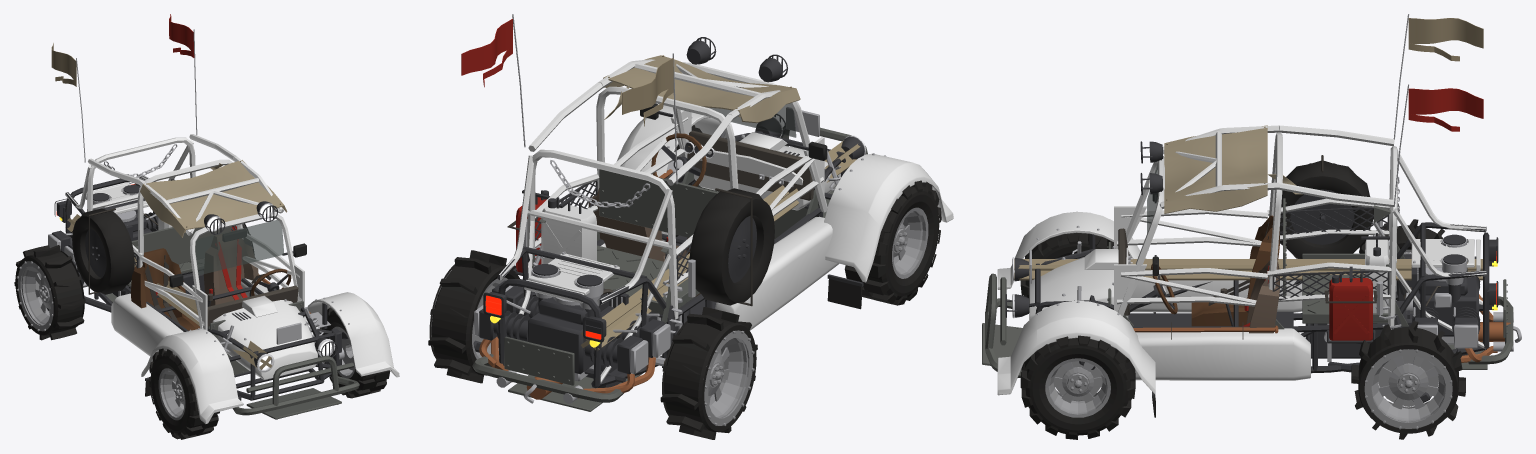
File: player_buggy_t1.glb
3 renders of one model, left to right at view 1: azimuth 30°, elevation 25°; view 2: azimuth 150°, elevation 25°; view 3: azimuth 270°, elevation 25°, orthographic. The views are drawn at different scales.
Visible parts, largest first — view 1: body_mesh, panel_hood, panel_fender_R, wheel_RR_tire, panel_bumper_F, panel_fender_L, wheel_FR_tire, wheel_RR_rim, wheel_FL_tire, wheel_FR_rim, panel_trunk, wheel_FL_rim (+1 smaller); view 2: body_mesh, panel_fender_R, wheel_RR_tire, wheel_RL_tire, wheel_FR_tire, panel_bumper_R, wheel_RR_rim, panel_hood, panel_fender_L, wheel_FR_rim, panel_trunk, steering_wheel_mesh; view 3: body_mesh, wheel_FL_tire, panel_fender_L, wheel_RL_rim, wheel_RL_tire, panel_hood, wheel_FL_rim, panel_fender_R, panel_bumper_F, wheel_FR_tire, panel_trunk, panel_bumper_R (+1 smaller).
Part boxes in pixels (box(x1,y1,x2,y2)): body_mesh: box(46, 14, 348, 400); panel_hood: box(212, 295, 317, 379); panel_fender_R: box(141, 328, 243, 423); wheel_RR_tire: box(14, 245, 85, 340); panel_bumper_F: box(232, 356, 359, 419); panel_fender_L: box(307, 292, 399, 377); wheel_FR_tire: box(149, 348, 219, 439); wheel_RR_rim: box(16, 261, 54, 331); wheel_FL_tire: box(319, 307, 390, 398); wheel_FR_rim: box(158, 368, 185, 420); panel_trunk: box(85, 182, 149, 214); wheel_FL_rim: box(329, 326, 355, 378); body_mesh: box(461, 14, 865, 411); panel_fender_R: box(824, 153, 953, 309); wheel_RR_tire: box(660, 307, 757, 439); wheel_RL_tire: box(428, 250, 522, 383); wheel_FR_tire: box(844, 180, 941, 305); panel_bumper_R: box(472, 336, 623, 403); wheel_RR_rim: box(703, 330, 754, 425); panel_hood: box(694, 107, 840, 210); panel_fender_L: box(616, 105, 726, 176); wheel_FR_rim: box(892, 207, 928, 278); panel_trunk: box(524, 252, 619, 303); steering_wheel_mesh: box(651, 133, 706, 186); body_mesh: box(1005, 14, 1513, 402); wheel_FL_tire: box(1020, 335, 1135, 439); panel_fender_L: box(997, 300, 1155, 417); wheel_RL_rim: box(1364, 349, 1452, 429); wheel_RL_tire: box(1351, 321, 1465, 439); panel_hood: box(1029, 246, 1128, 319); wheel_FL_rim: box(1045, 358, 1110, 417); panel_fender_R: box(997, 211, 1155, 313); panel_bumper_F: box(982, 273, 1029, 377); wheel_FR_tire: box(1020, 233, 1131, 303); panel_trunk: box(1411, 239, 1480, 270); panel_bumper_R: box(1468, 279, 1521, 364).
Size of the model in its own units: 1.99 by 2.55 by 3.76.
